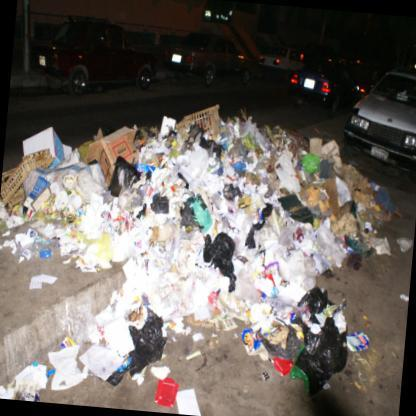Garbage: (103, 115, 315, 344), (0, 114, 139, 285), (196, 166, 374, 257), (145, 240, 296, 334), (81, 282, 186, 390), (264, 288, 353, 396), (0, 351, 76, 404)
